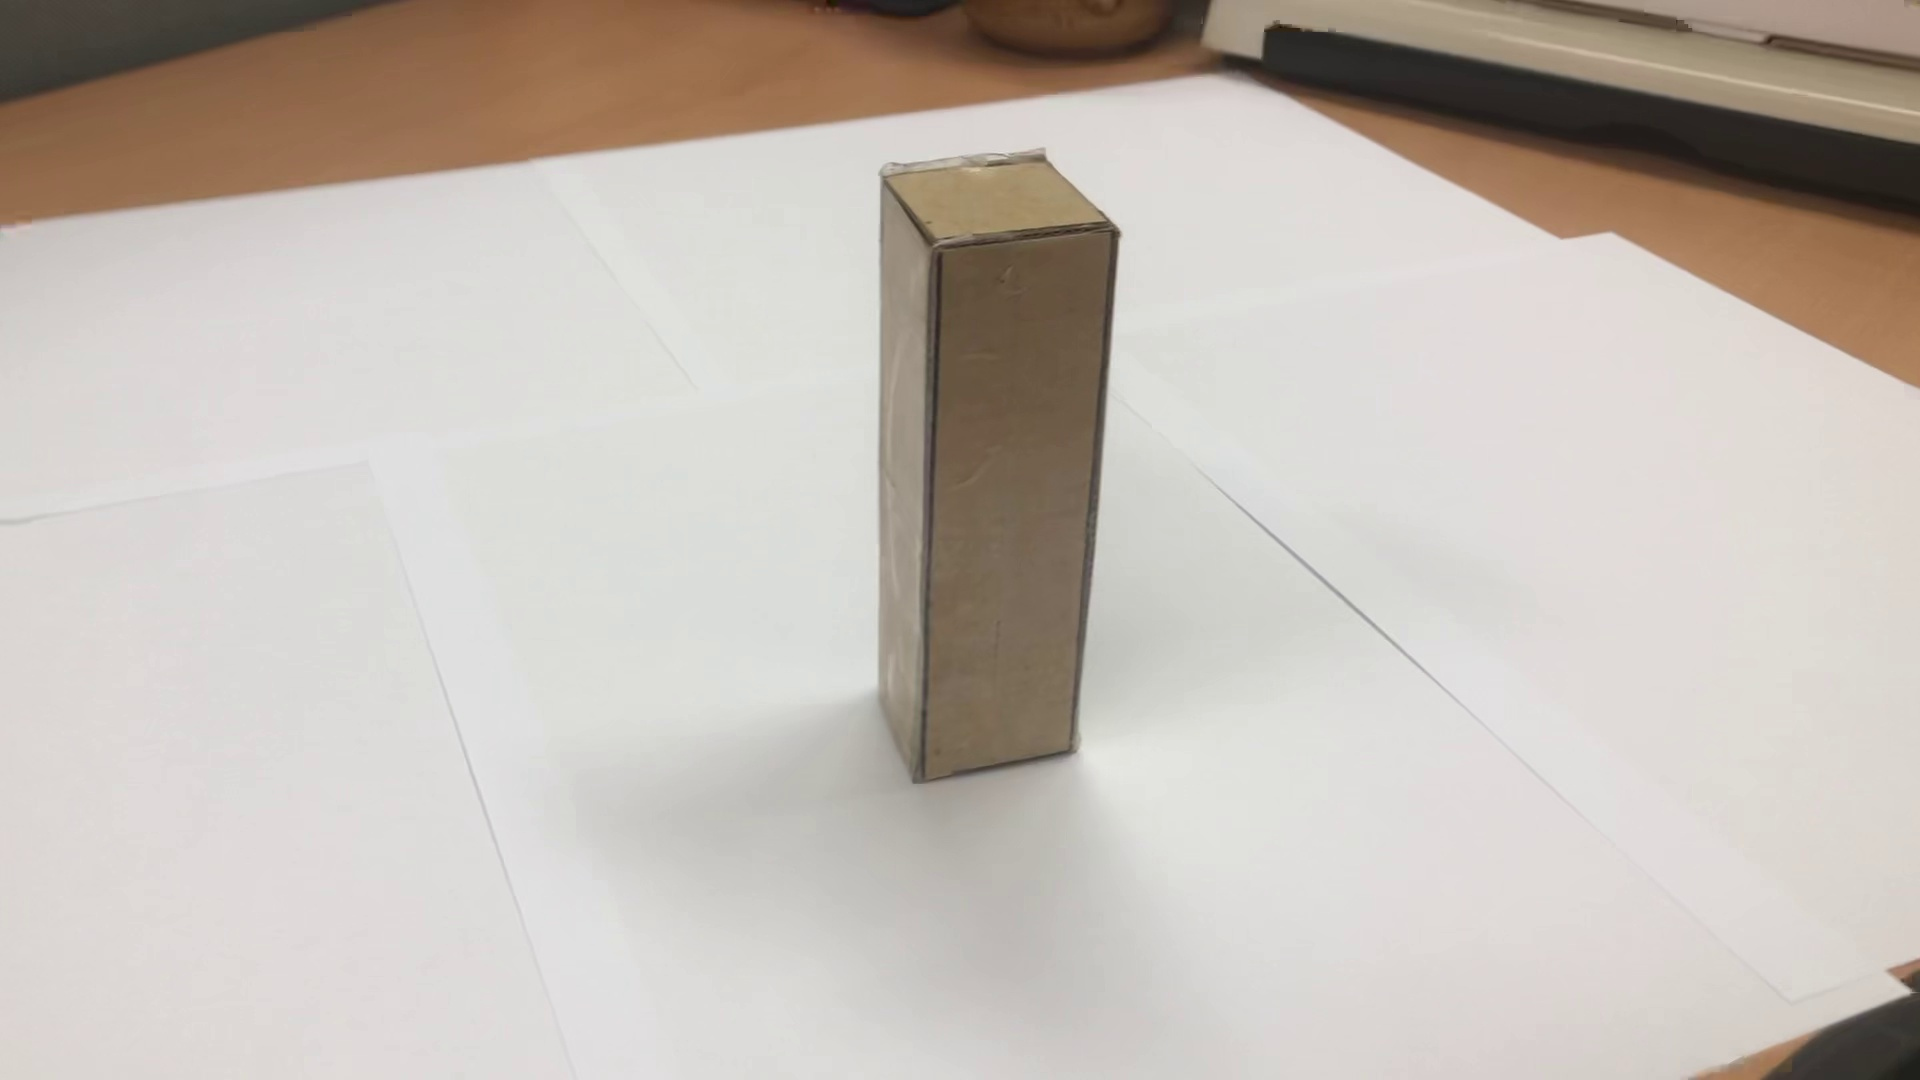box: (855, 127, 1122, 814)
